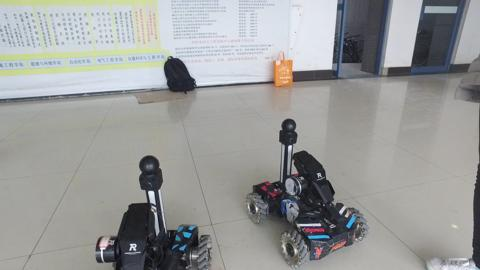bag: (157, 52, 203, 93), (266, 50, 296, 88)
chariot: (248, 114, 371, 270), (95, 147, 215, 270)
